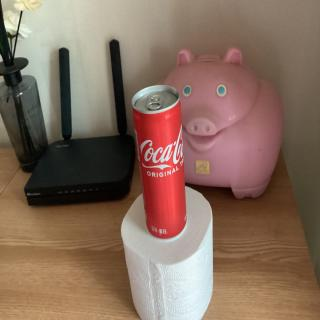cocacola: (125, 78, 190, 242)
